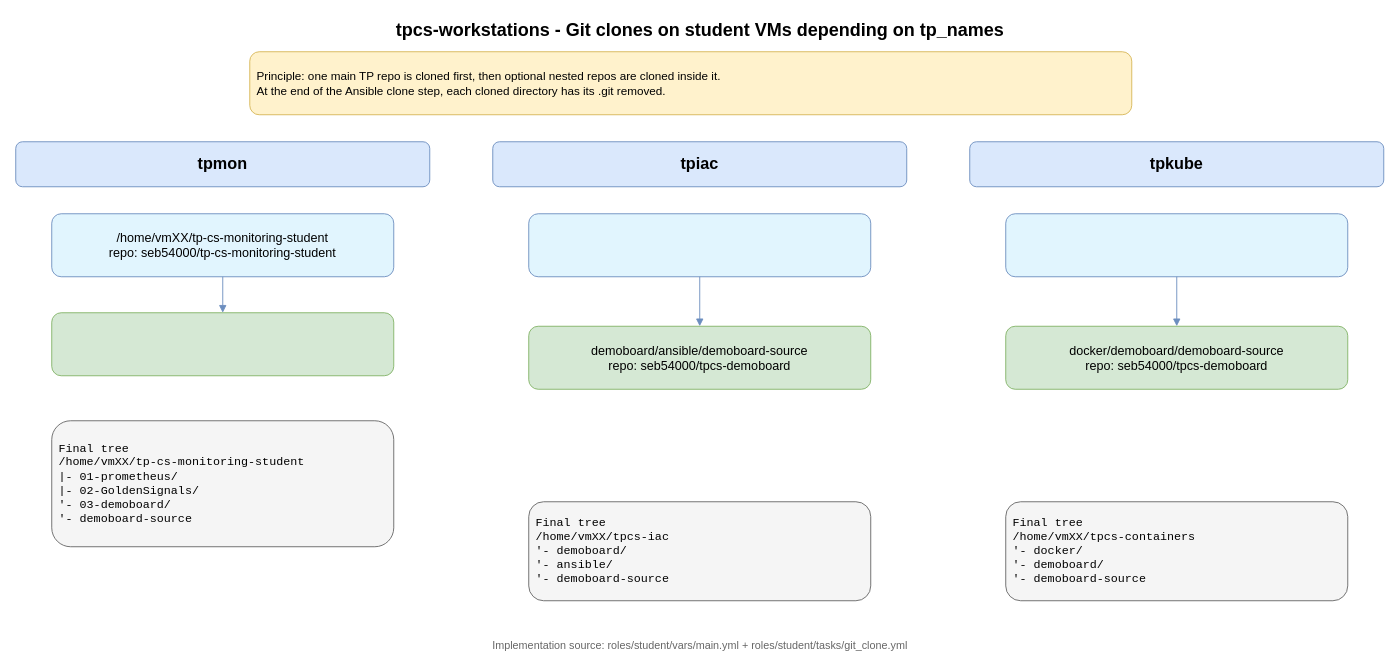
Image size: 1400x670. Some labels were removed from this diagram. The shapes that lost their labels are listed below. From the top down, each one's box as (x1, y1, x2, y2) in pixels, then its label:
(528, 213, 871, 277): /home/vmXX/tpcs-iac repo: seb54000/tpcs-iac
(1005, 213, 1348, 277): /home/vmXX/tpcs-containers repo: seb54000/tp-cs-containers-student
(51, 312, 394, 376): 03-demoboard/demoboard-source repo: seb54000/tpcs-demoboard
